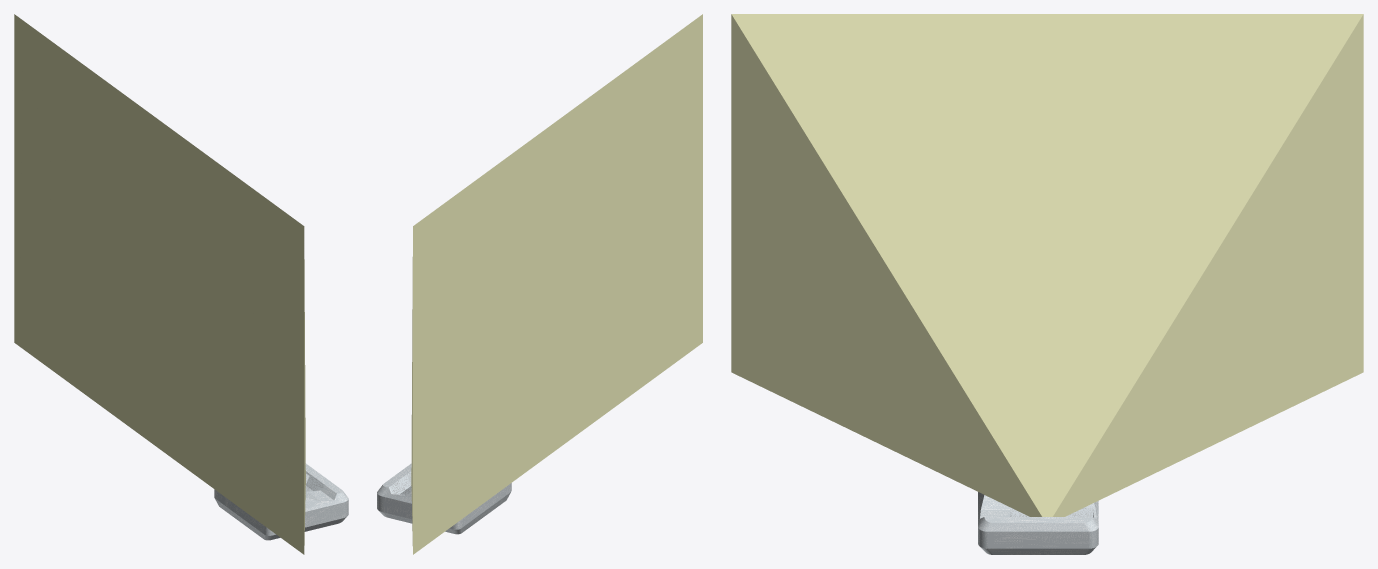
Rendered from projector.fbx.
The picture shows the model from 3 angles, left to right: view 1: azimuth 30°, elevation 25°; view 2: azimuth 150°, elevation 25°; view 3: azimuth 270°, elevation 25°; orthographic projection. The views are drawn at different scales.
Visible parts, largest first — view 1: group_0, group_1.001; view 2: group_0, group_1.001; view 3: group_0, group_1.001.
Part boxes in pixels (box(x1,y1,x2,y2)): group_0: box(14, 14, 305, 554); group_1.001: box(214, 463, 348, 540); group_0: box(411, 14, 702, 554); group_1.001: box(377, 463, 511, 534); group_0: box(731, 14, 1363, 516); group_1.001: box(978, 492, 1098, 554).
Bounding box in the file's own units: 83.04 × 207 × 259.
